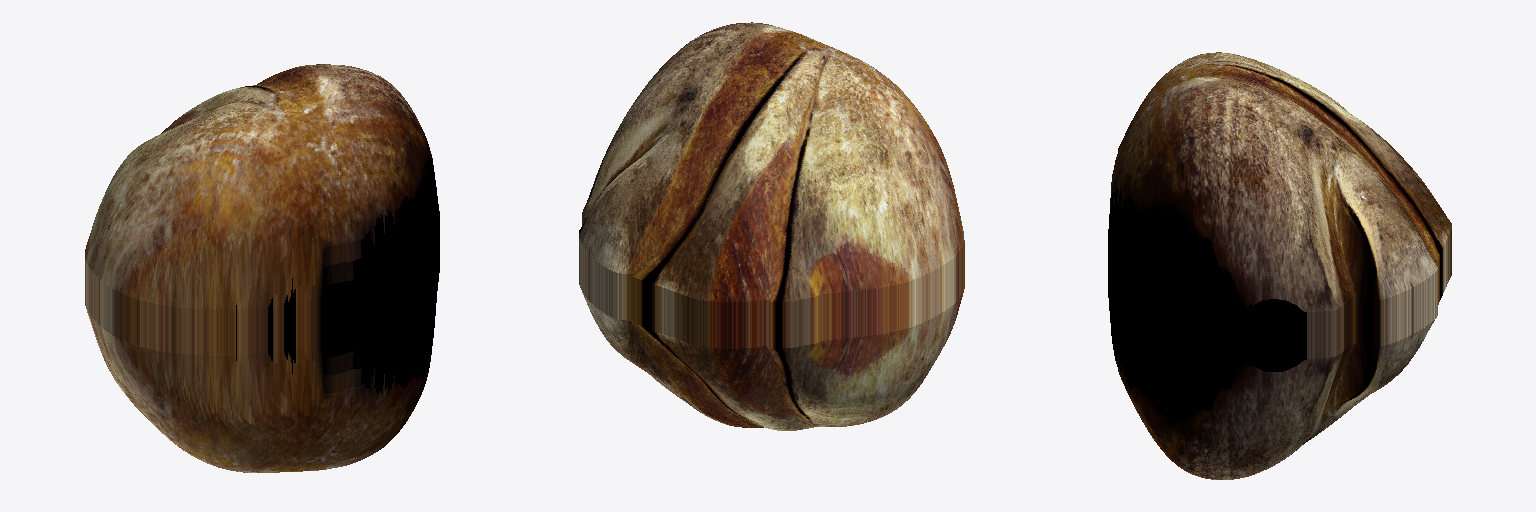
The picture shows the model from 3 angles: view 1: azimuth 30°, elevation 25°; view 2: azimuth 150°, elevation 25°; view 3: azimuth 270°, elevation 25°; orthographic projection.
Visible parts, largest first — view 1: Grid; view 2: Grid; view 3: Grid.
Boxes of the visible parts, <box> form: Grid: <box>85,64,439,472</box>; Grid: <box>579,22,964,430</box>; Grid: <box>1108,52,1451,479</box>.
Size of the model in its own units: 1.79 by 2 by 1.61.
Materials: 1 (1 with a texture image).